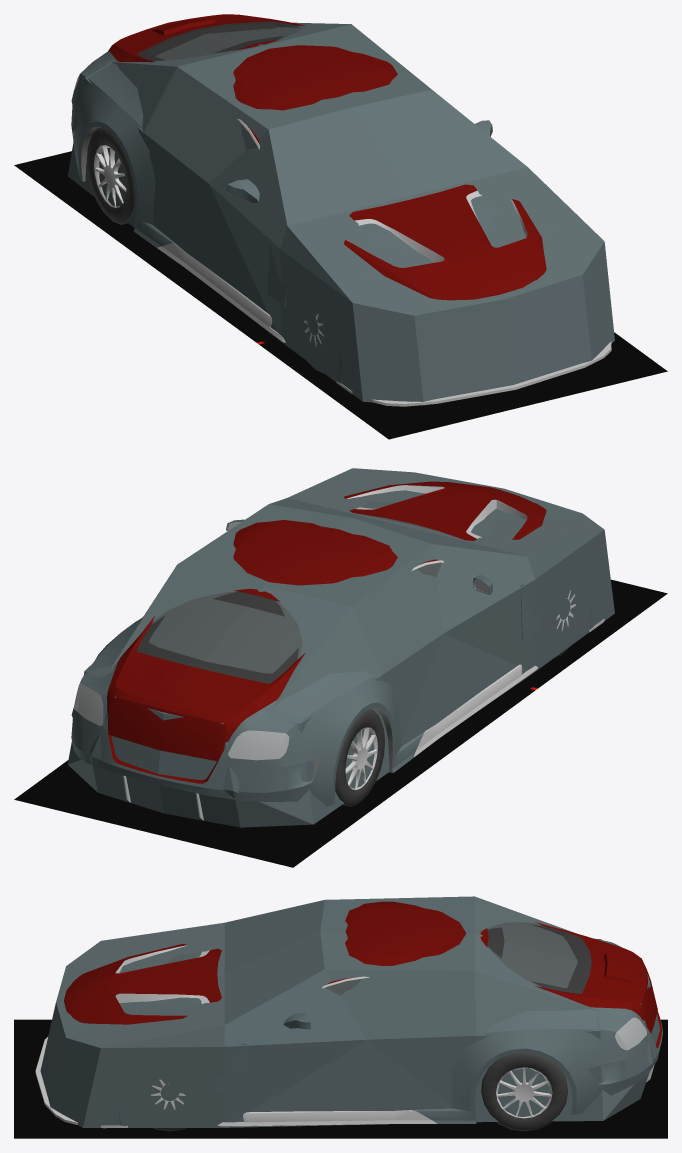
File: Caravan.fbx
3 views of the same model, one above another, from view 1: azimuth 30°, elevation 25°; view 2: azimuth 150°, elevation 25°; view 3: azimuth 270°, elevation 25° (orthographic). The views are drawn at different scales.
Visible parts, largest first — view 1: Caravan_body_col, Caravan_body, CarShadow, Caravan_wheel_RR; view 2: Caravan_body_col, Caravan_body, CarShadow, Caravan_wheel_RR; view 3: Caravan_body_col, Caravan_body, CarShadow, Caravan_wheel_RL.
Boxes of the visible parts, x1,y1,x2,y2 form: Caravan_body_col: (67, 22, 614, 405); Caravan_body: (71, 14, 611, 406); CarShadow: (14, 151, 667, 439); Caravan_wheel_RR: (86, 127, 135, 224); Caravan_body_col: (67, 468, 614, 827); Caravan_body: (71, 481, 604, 820); CarShadow: (14, 579, 667, 867); Caravan_wheel_RR: (335, 709, 384, 806); Caravan_body_col: (40, 896, 660, 1127); Caravan_body: (35, 901, 662, 1128); CarShadow: (14, 1019, 667, 1138); Caravan_wheel_RL: (481, 1052, 567, 1131).
Bounding box in the file's own units: 2.21 × 1.31 × 5.15.
